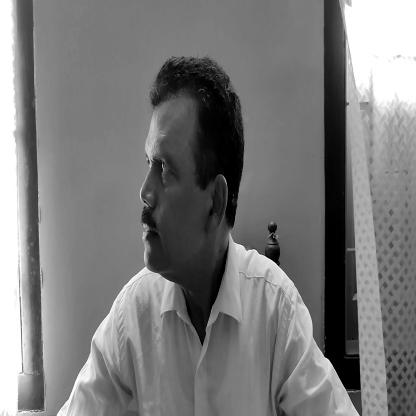Distracted: (138, 64, 245, 298)
